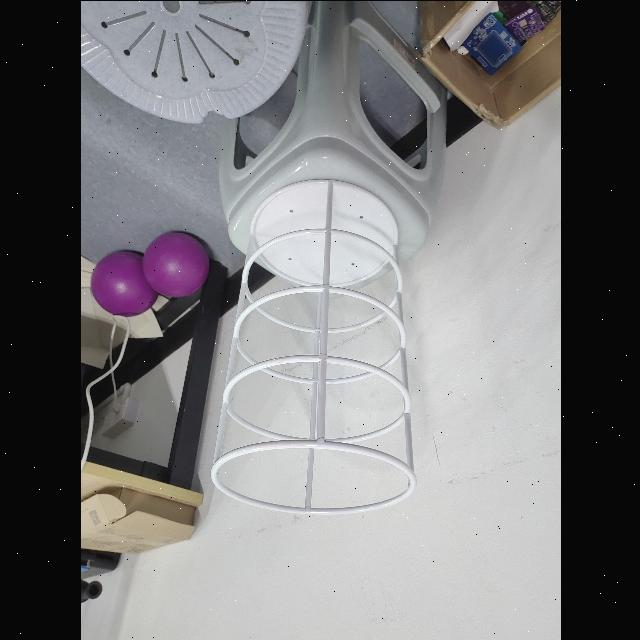S: (208, 168, 420, 518)
